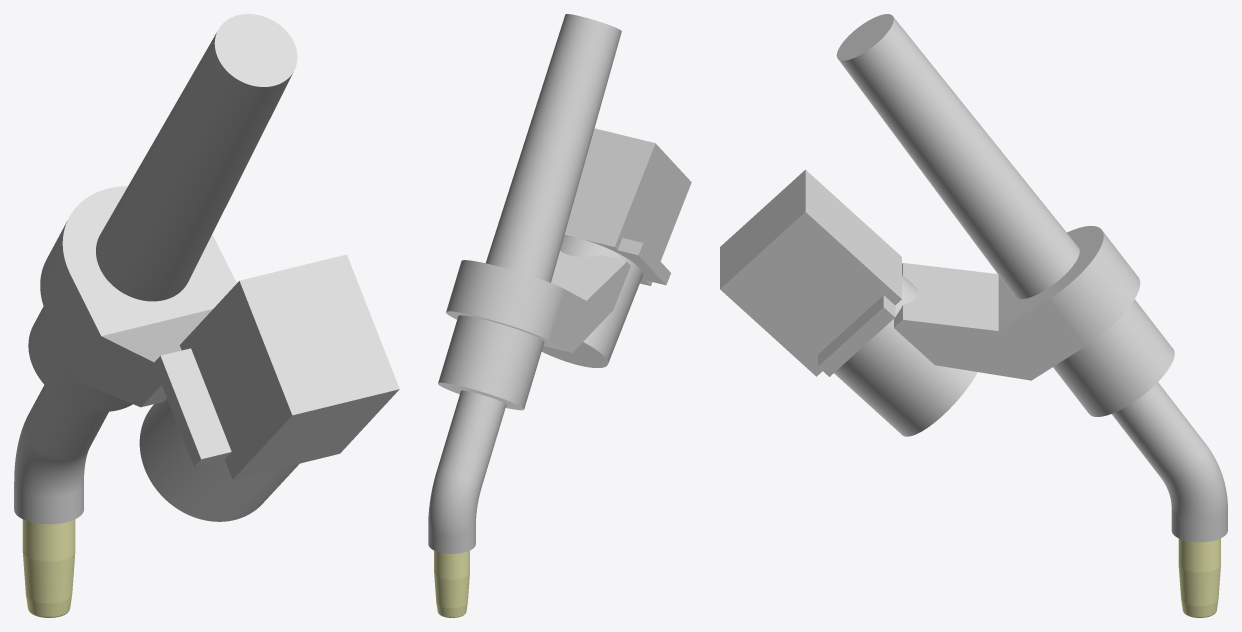
File: MRW510_10GH.dae
The picture shows the model from 3 angles, left to right: view 1: azimuth 30°, elevation 25°; view 2: azimuth 150°, elevation 25°; view 3: azimuth 270°, elevation 25°; orthographic projection. The views are drawn at different scales.
Parts seen in each view (by area): view 1: 1829705466336; view 2: 1829705466336; view 3: 1829705466336.
Part boxes in pixels (x1,y1,x2,y2): 1829705466336: (14,14,399,617); 1829705466336: (428,14,691,617); 1829705466336: (720,14,1227,617).
Bounding box in the file's own units: 0.1255 × 0.4056 × 0.5214.
